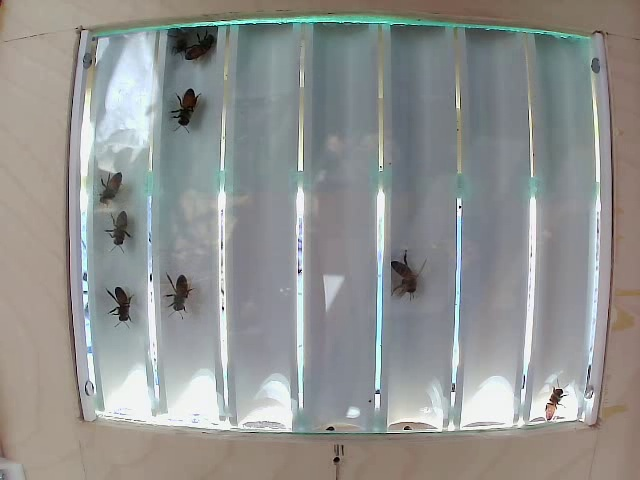bee: (375, 245, 426, 306), (93, 281, 142, 335), (171, 77, 209, 135), (192, 32, 228, 87), (166, 256, 193, 321), (102, 215, 139, 258), (96, 166, 133, 207)
